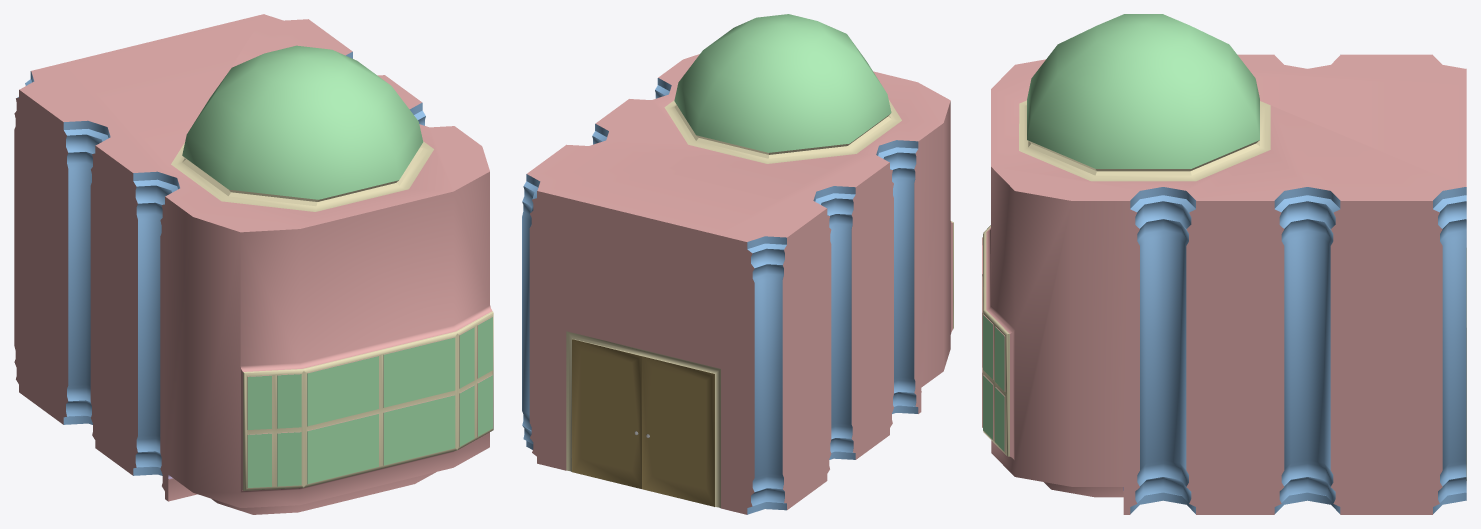
The model's file is interagationRoom.glb.
3 renders of one model, left to right at view 1: azimuth 30°, elevation 25°; view 2: azimuth 150°, elevation 25°; view 3: azimuth 270°, elevation 25°, orthographic. The views are drawn at different scales.
Visible parts, largest first — view 1: flyBox; view 2: flyBox; view 3: flyBox.
Part boxes in pixels (<box>): flyBox: <box>14,14,493,514</box>; flyBox: <box>522,14,953,514</box>; flyBox: <box>982,14,1466,514</box>.
Size of what is drawn, in the model's own units: 10.48 by 13.92 by 14.67.
